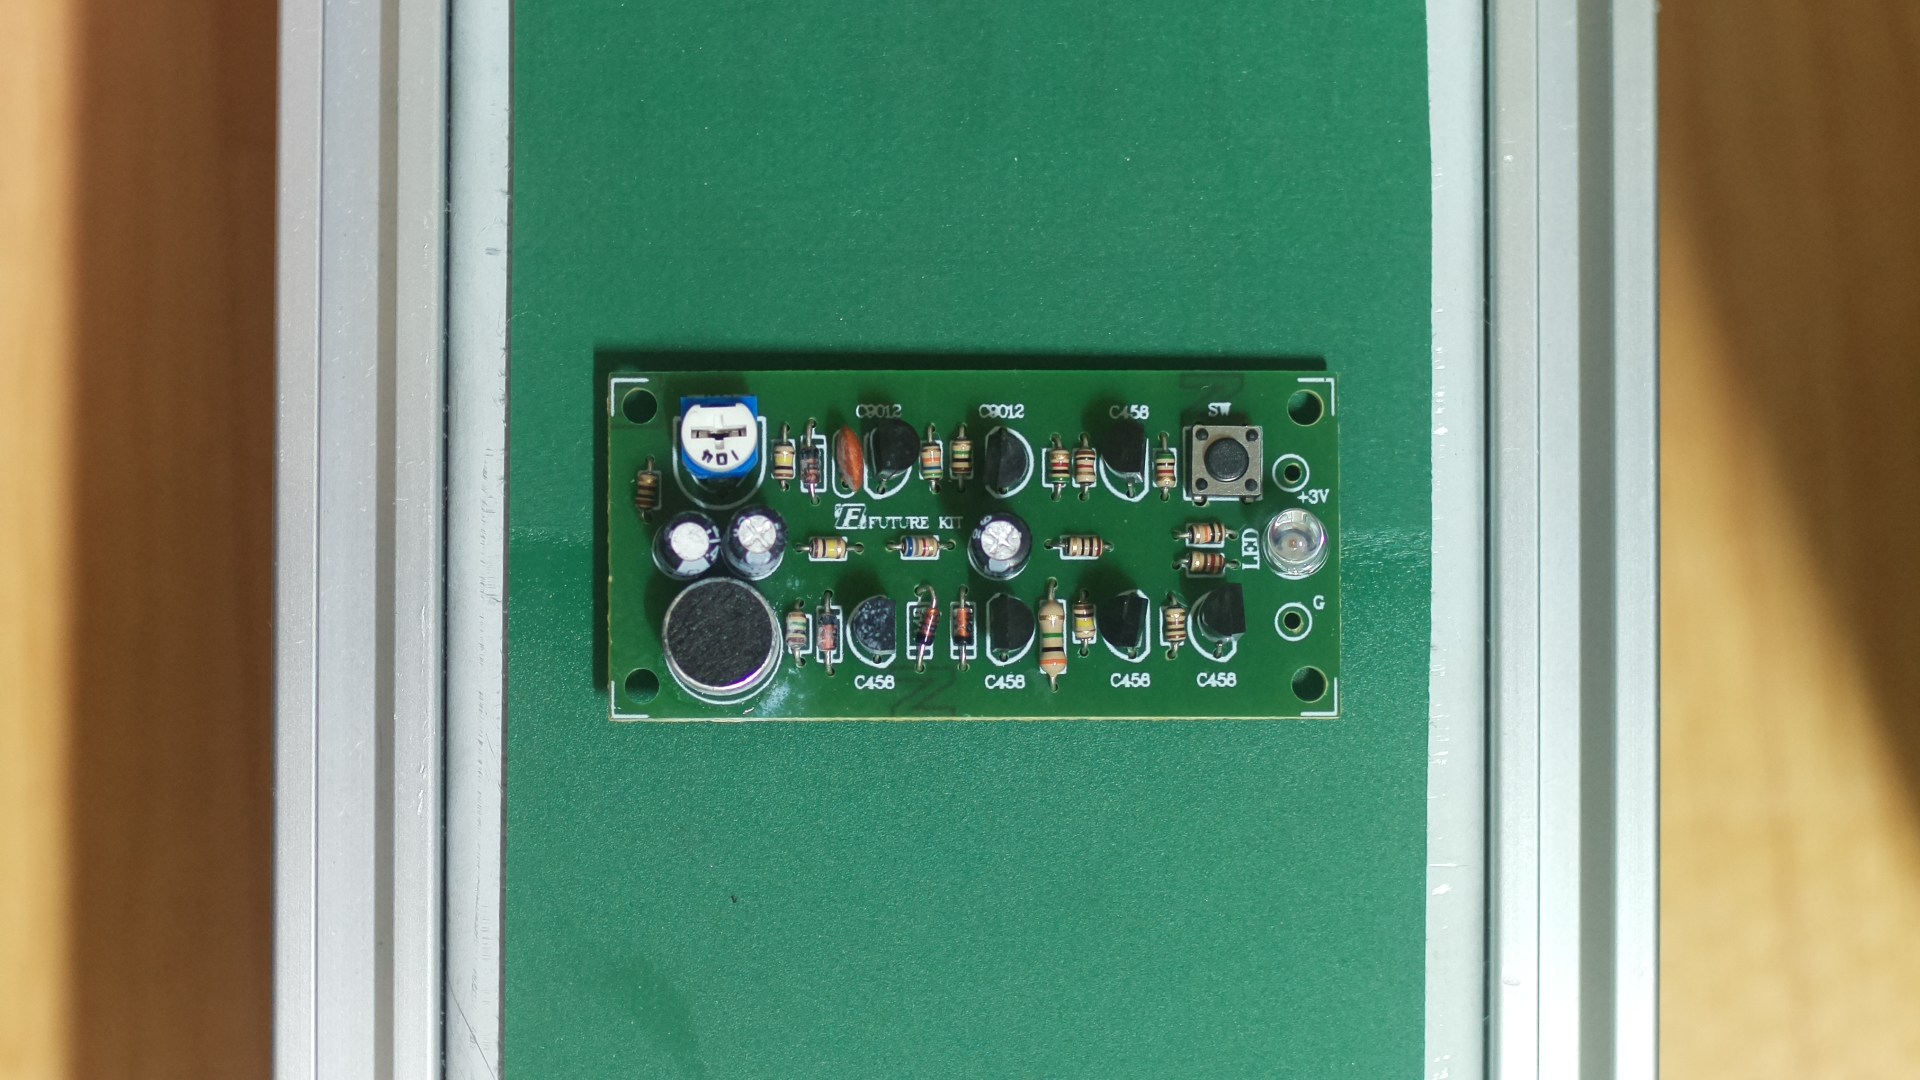A_Normal: (611, 372, 1340, 717)
